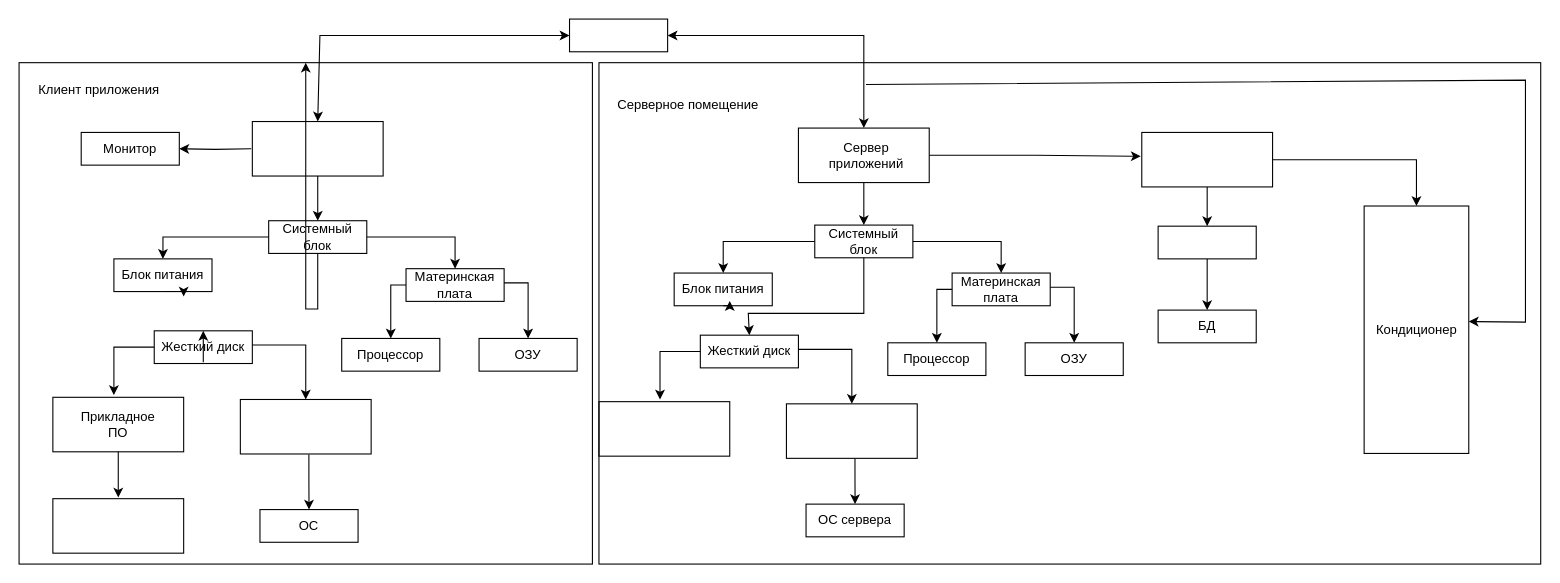
Image size: 1560x583. Some labels were removed from this diagram. The box of each missing label's shape, as (x1, y1, x2, y2) in pixels:
Интернет браузер: (52, 498, 184, 553)
Локальная сеть: (568, 18, 668, 52)
Прикладное ПО сервера: (598, 401, 730, 456)
Рабочая станция: (251, 120, 383, 176)
Сервер БД: (1141, 131, 1273, 187)
Системное ПО: (239, 398, 371, 454)
Системное ПО сервера: (785, 403, 917, 458)
СУБД: (1157, 225, 1256, 259)
